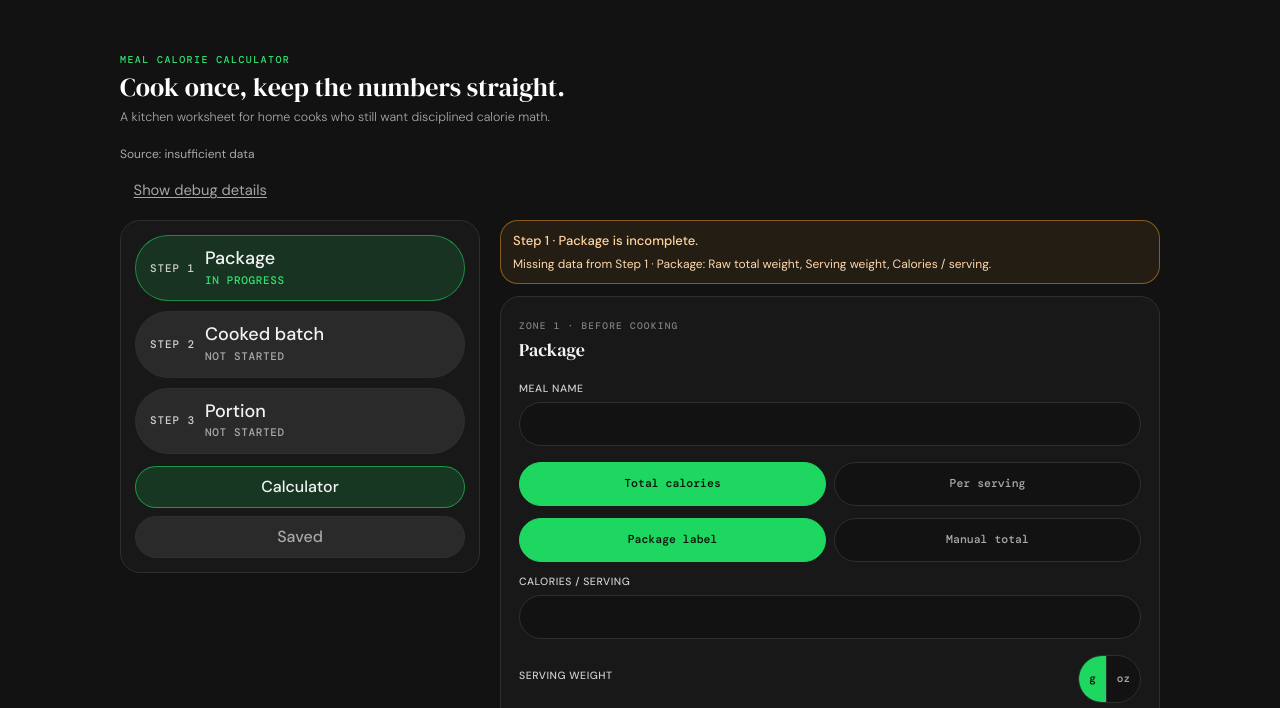
App zone layout migration › renders saved meals region inside the zone layout root
The image size is (1280, 708).
Click the button "Saved". click: (300, 537)
box: [135,516,465,558]
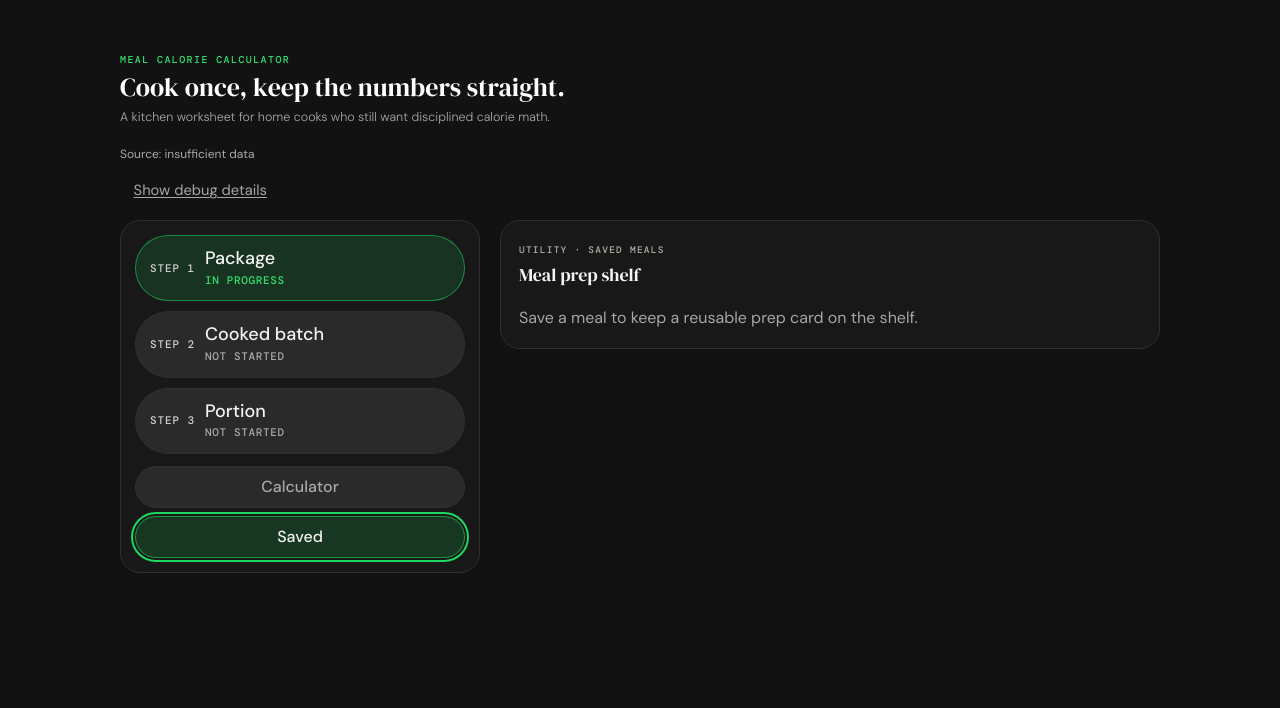
Expected: the element with test id "saved-meals-region" is shown, [500,220,1160,349]
